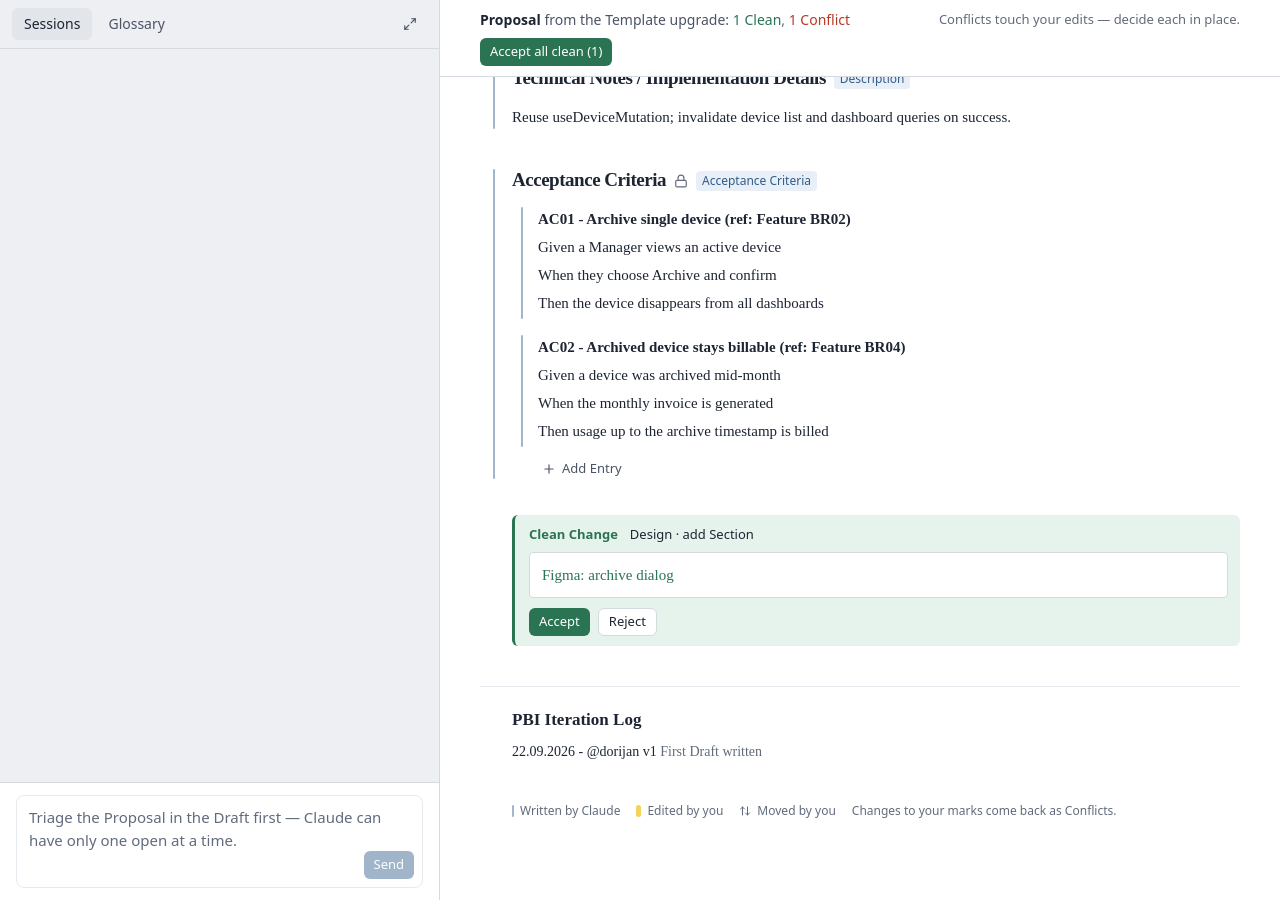
Test: DraftPage from v1 › shows title and new-Section changes where they land
The image size is (1280, 900).
(page scrolled)
Expected: the text "Figma: archive dialog" is shown, [542,567,674,583]
Click the button "Reject": [627, 622] box [598,608,657,636]
(page scrolled)
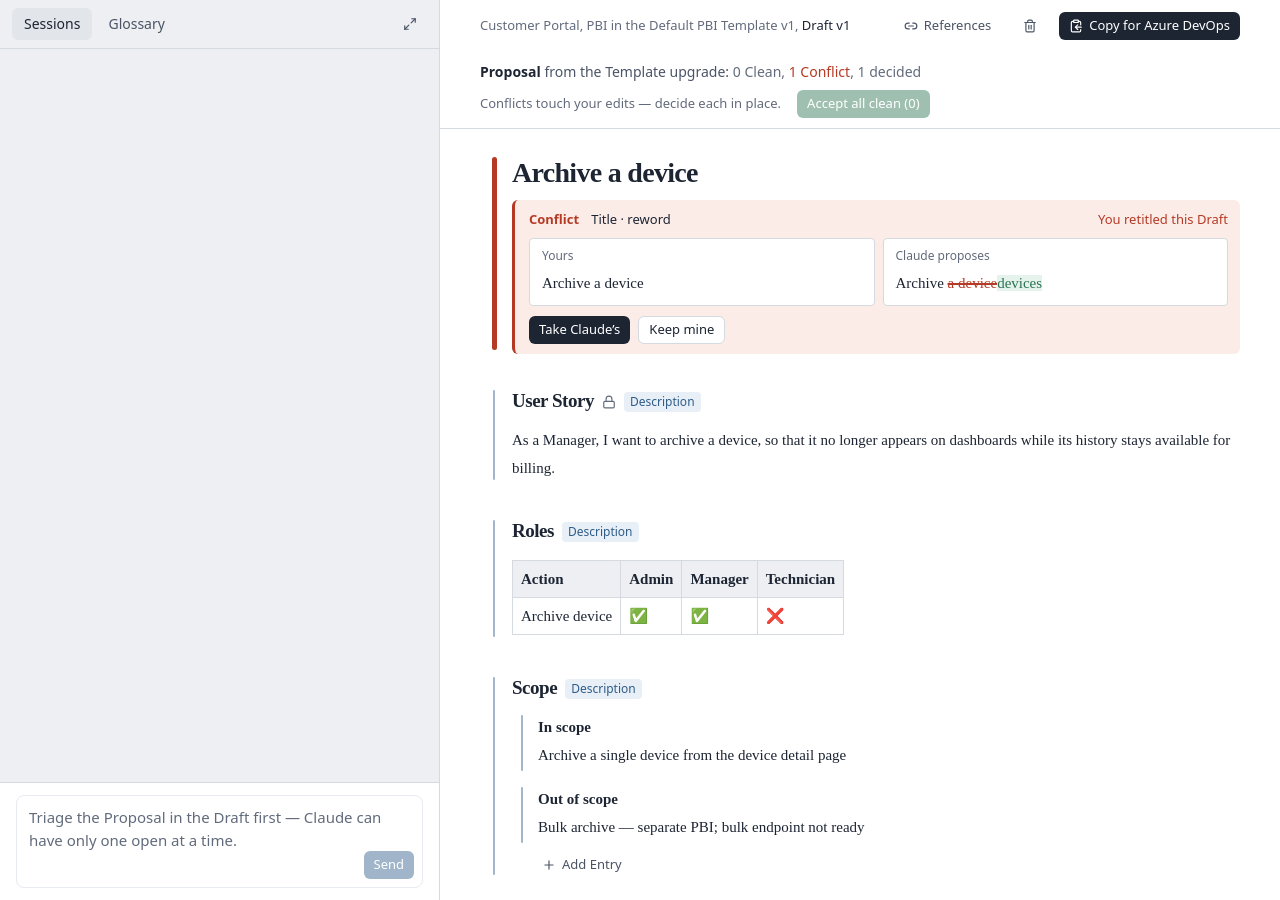
Click the button "Take Claude’s": [580, 330] box [529,316,630,344]
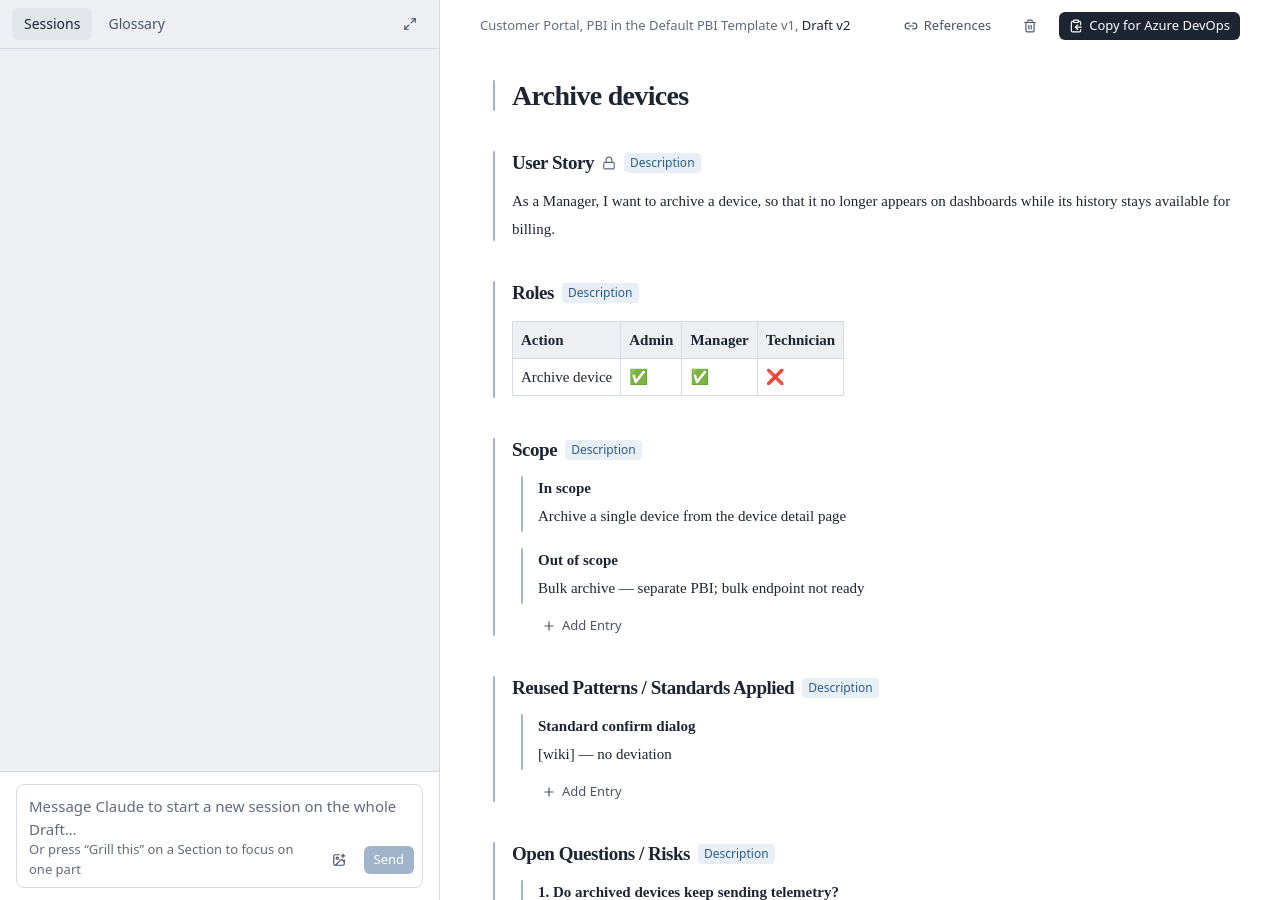
Result: the heading "Archive devices" is shown at [512,80,688,111]
